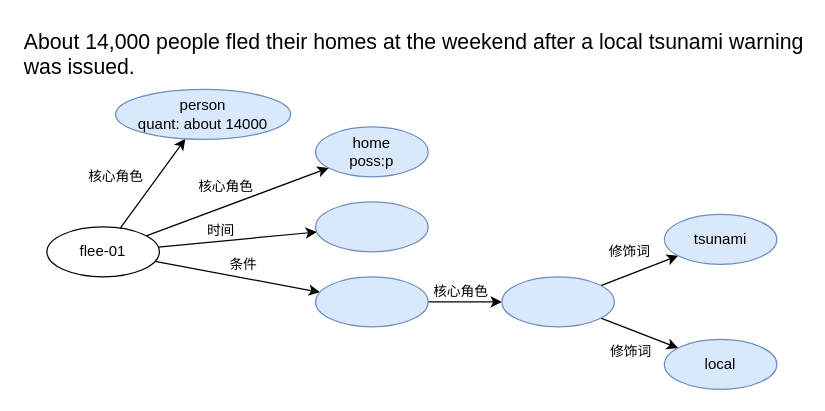
The diagram is 825 pixels wide and 411 high, and some of its shapes have lost their labels. Here are the shapes that lost their labels. From the top down, the box of each, then its label:
(314, 201, 428, 252): weekend
(314, 276, 428, 327): issue-01
(501, 276, 614, 327): warning
